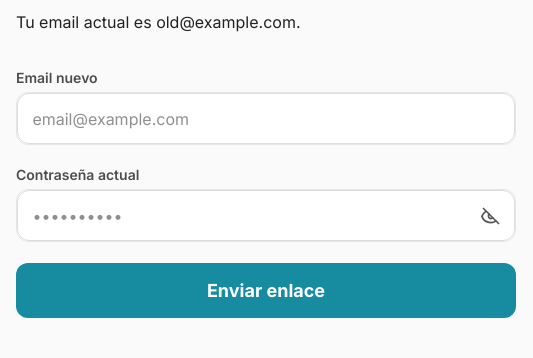
ChangeEmail › marks the password field on 403
Type "New@Example.com" into the field labelled "Email nuevo" at point(266, 119), box [17,93,515,144]
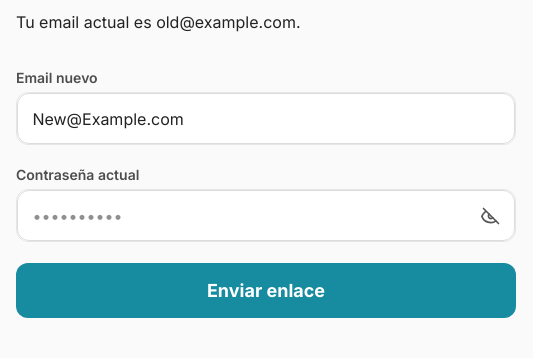
Type "secret123" into the password field labelled "Contraseña actual" at point(266, 216), box [17,190,515,241]
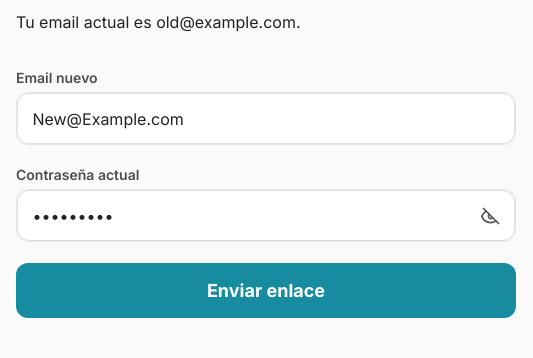
Click the button "Enviar enlace" at point(266, 290), box [16,263,516,318]
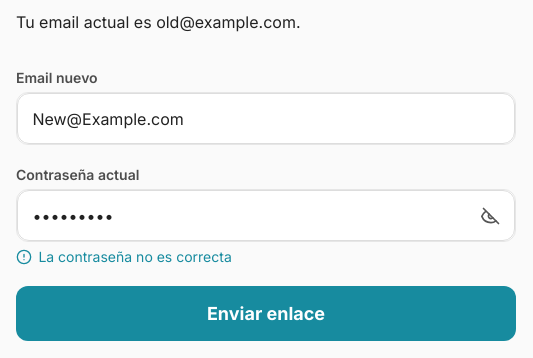
Expected: the text "La contraseña no es correcta" is shown, [16,248,232,265]
